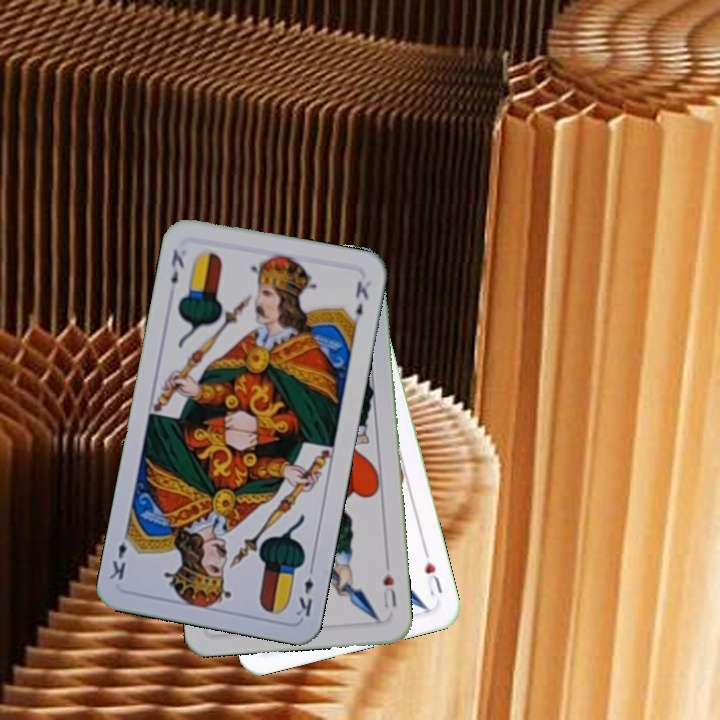EK: (292, 560, 317, 619), (166, 245, 187, 287)
HU: (420, 545, 445, 599), (379, 569, 399, 614)
